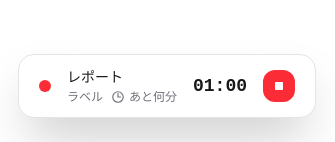
Test: 浮いているタイマーの「あと何分」 › 選ばなければ今までどおり経過を数え、「あと何分」から長さを選ぶと残り時間と終わりの時刻になる
Expected: the text "01:00" is shown, [193,72,247,100]
What coordinates should you click on to do the following:
click the button "あと何分"
I would click on:
 (144, 97)
Its box is [107,89,181,105].
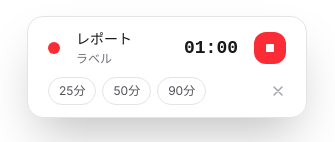
Expected: the element named "終わりの時間" shows "25分"
Expected: the element named "終わりの時間" shows "50分", [102,77,151,105]
Expected: the element named "終わりの時間" shows "90分", [157,77,206,105]
What coordinates should you click on to do the following:
click the button "25分"
I would click on:
 (72, 91)
Its box is [48,77,96,105].
Wait 600000 ms
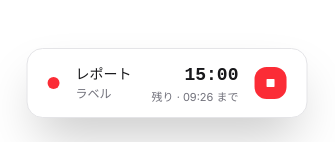
Expected: the button "残り · 09:26 まで" is shown, [148,89,242,105]
Expected: the text "15:00" is shown, [184,61,238,89]
